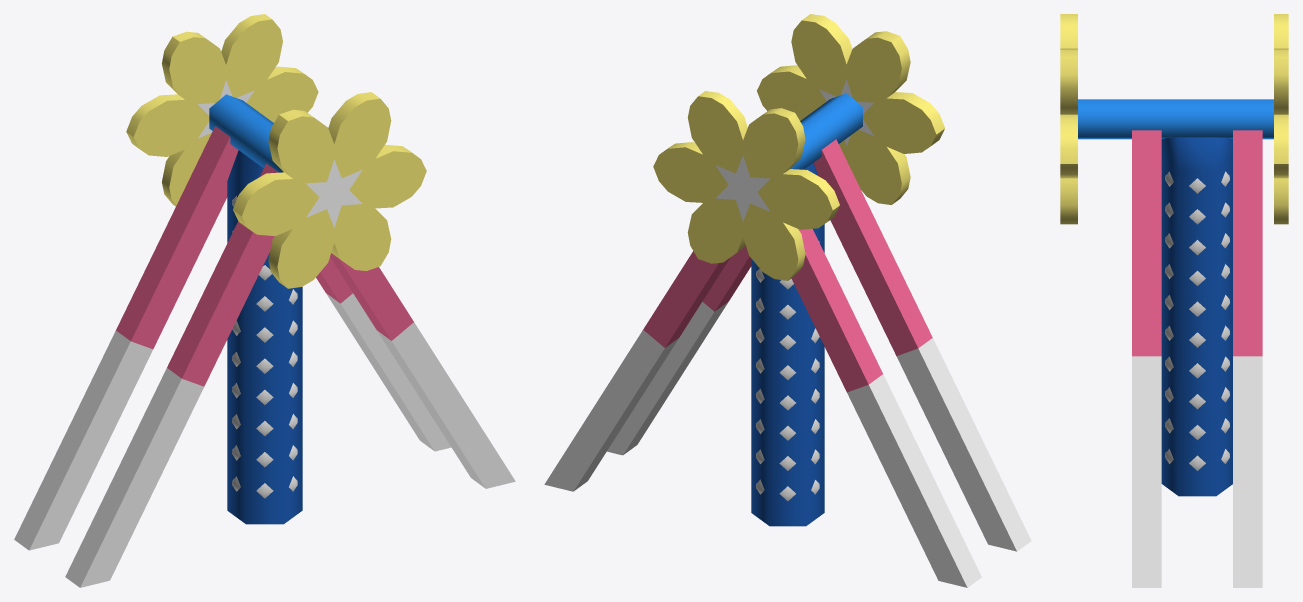
The model's file is attraction_8_001.gltf.
3 views of the same model, side by side, from view 1: azimuth 30°, elevation 25°; view 2: azimuth 150°, elevation 25°; view 3: azimuth 270°, elevation 25° (orthographic). The views are drawn at different scales.
Visible parts, largest first — view 1: attraction_8_001; view 2: attraction_8_001; view 3: attraction_8_001.
Part boxes in pixels (x1,y1,x2,y2): attraction_8_001: (14,14,515,587); attraction_8_001: (544,14,1031,587); attraction_8_001: (1060,14,1288,587).
Bounding box in the file's own units: 6.9 × 6.85 × 3.17.
Materials: 2 (1 with a texture image).
